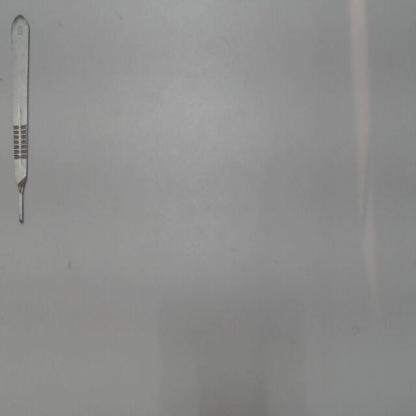No.3 BP Handle: (8, 10, 35, 227)
